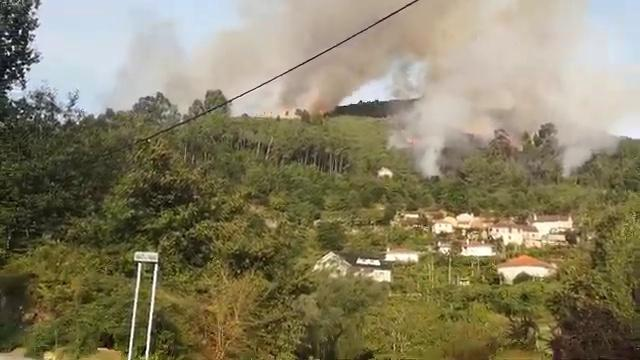smoke: (429, 5, 611, 125), (255, 18, 399, 75)
